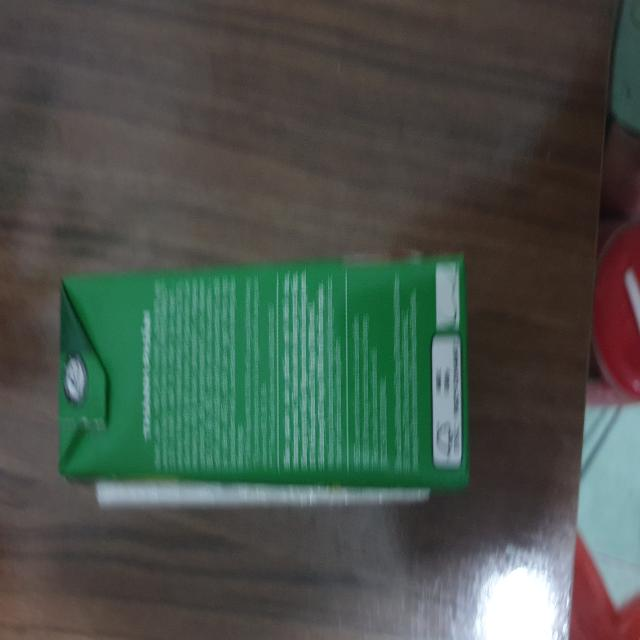Milo: (52, 248, 476, 503)
